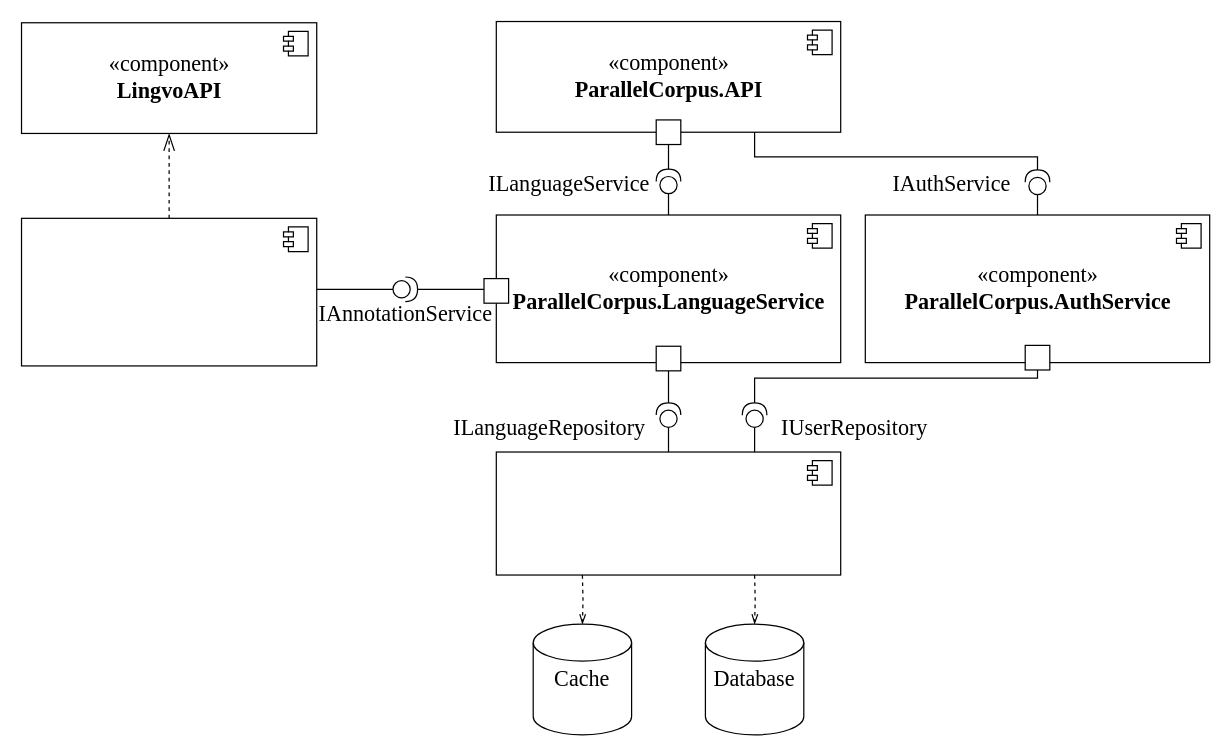
Image size: 1231x756. Some labels were removed from this diagram. Each missing label, with the centre of its shape:
"«component» ParallelCorpus. AnnotationService" goes at point 168,291.
"«component» ParallelCorpus.DB" goes at point 668,513.
